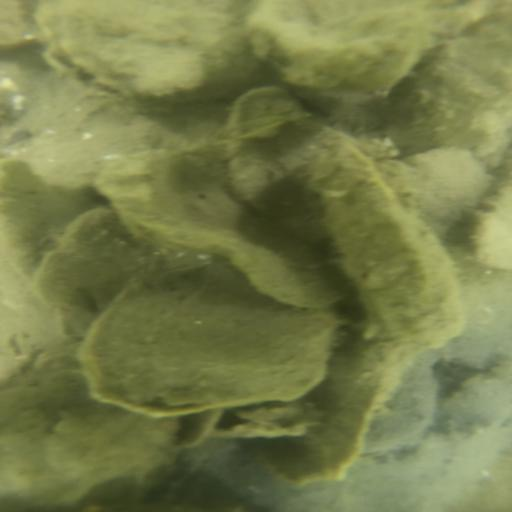Oyster-Closed: (75, 139, 354, 303), (79, 262, 340, 414), (315, 135, 465, 354), (247, 339, 422, 488), (36, 3, 264, 113), (253, 2, 482, 104), (225, 86, 349, 248), (392, 145, 497, 245)
